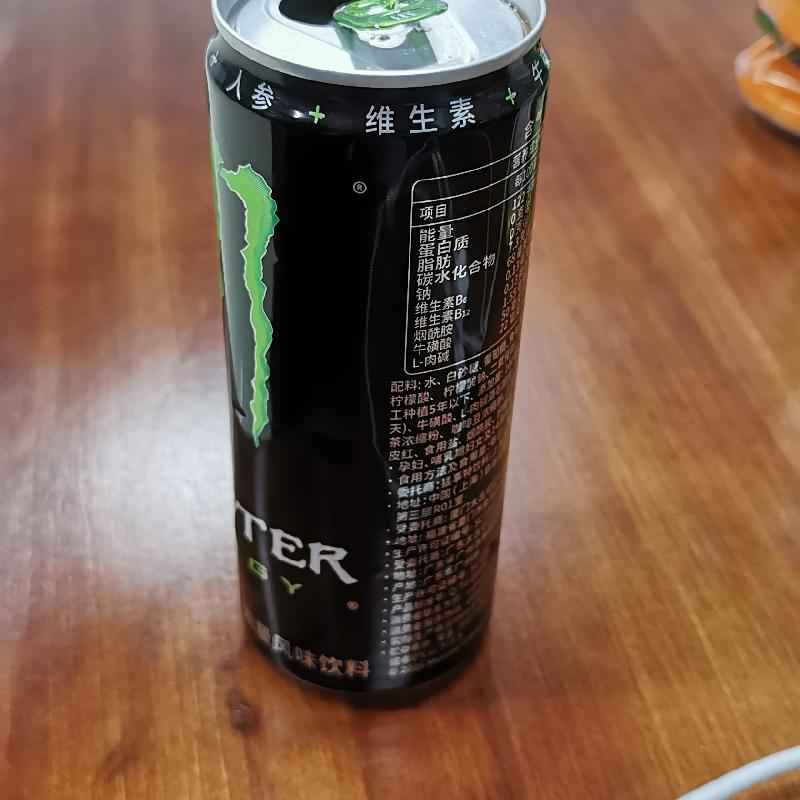cans: (199, 3, 595, 127)
